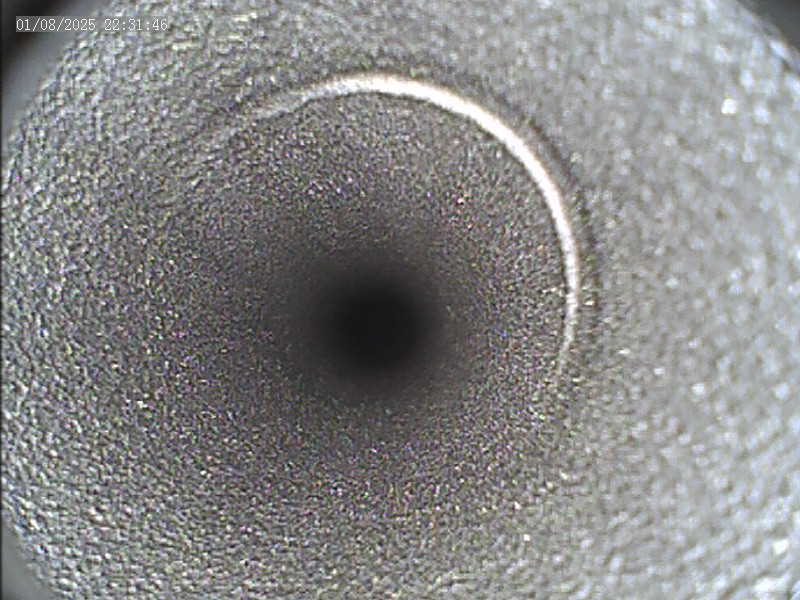defective_area: (260, 75, 582, 374)
